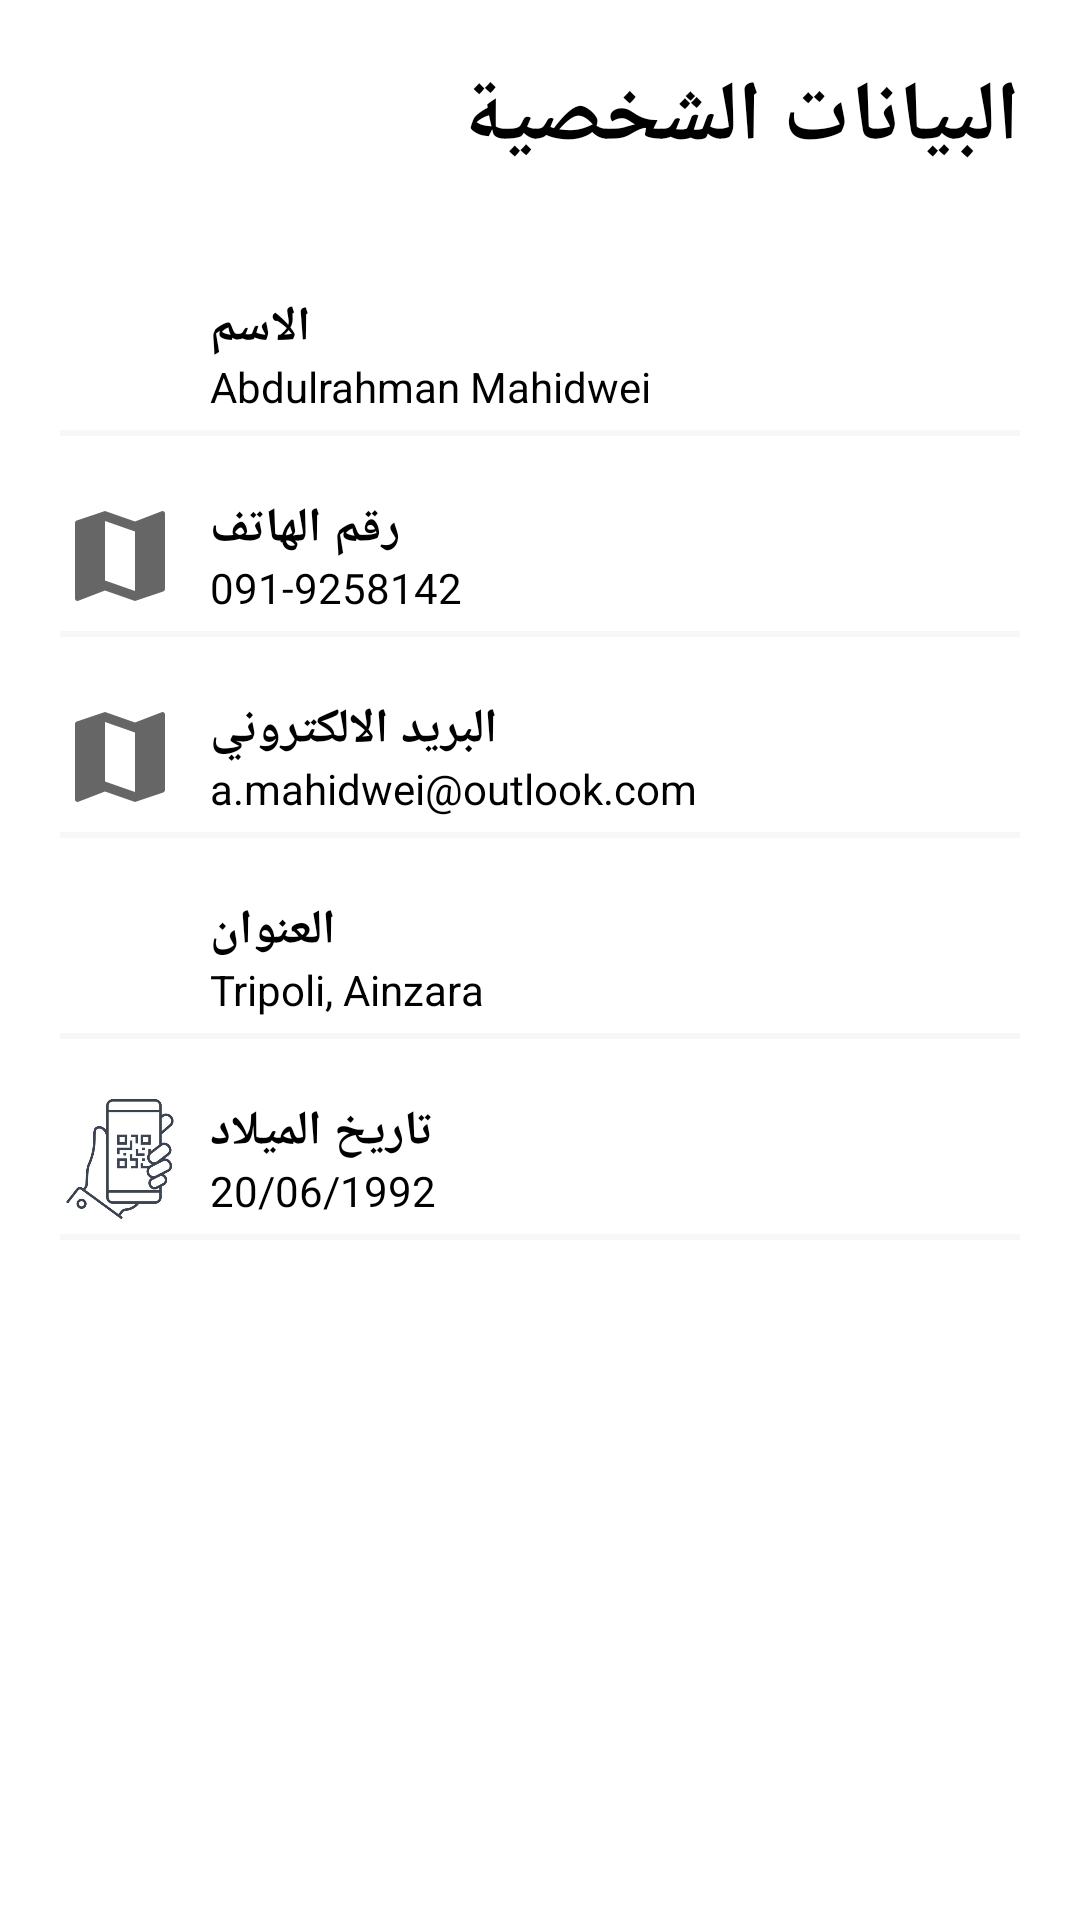

Point at icon controls on the screen. Image size 1080×1920, points as [x,y].
map: [120,556], [120,757]
